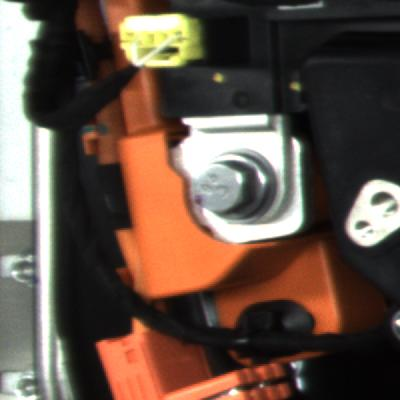nut_b: (189, 141, 281, 234)
